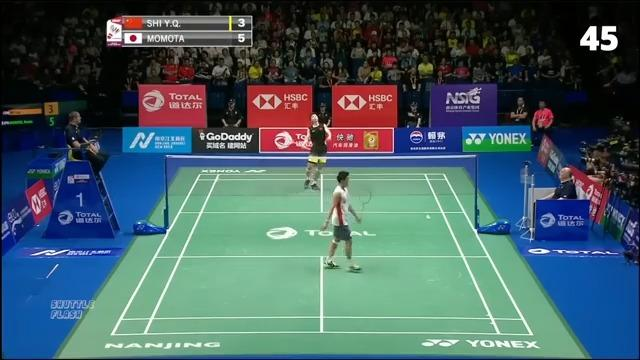Shuttlecock: (425, 213, 435, 221)
